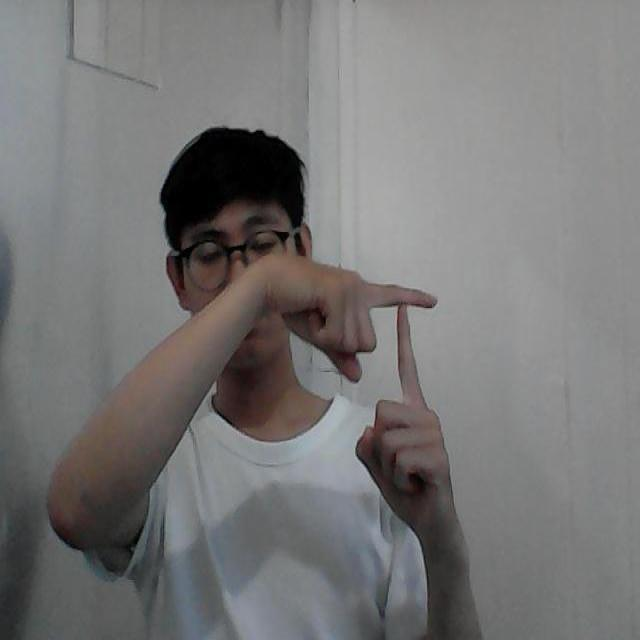T: (264, 254, 507, 522)
